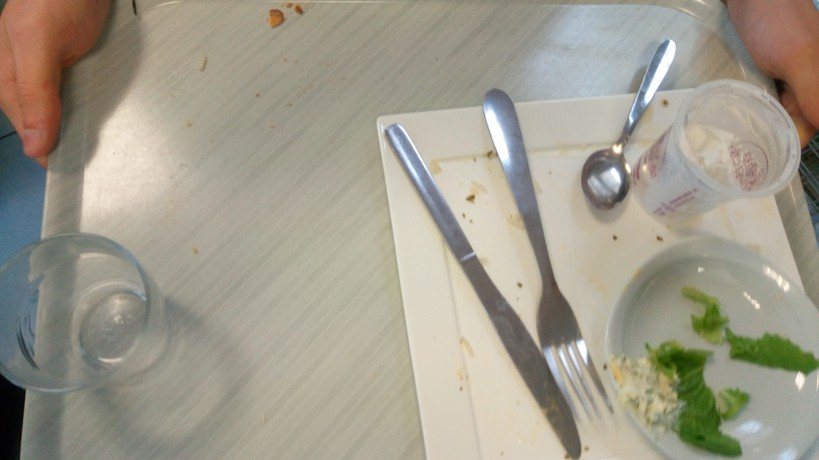cup: (1, 221, 155, 401)
cutlery: (373, 109, 604, 460), (579, 29, 683, 211)
orga: (603, 285, 819, 456)
trash: (638, 62, 793, 240)
